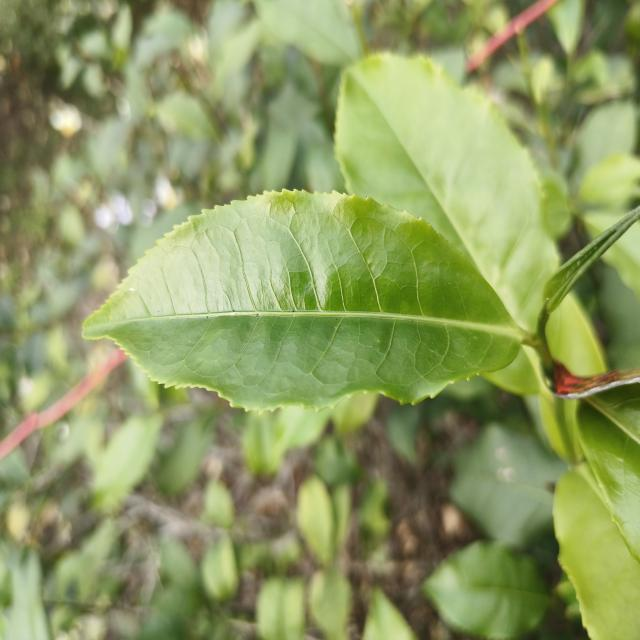Leaf: (83, 191, 525, 410), (335, 54, 559, 329), (553, 466, 640, 640), (450, 423, 567, 547), (423, 541, 549, 640), (578, 389, 640, 561), (543, 206, 640, 314), (254, 0, 361, 66), (94, 414, 162, 510), (576, 101, 636, 181), (297, 476, 335, 565), (579, 154, 640, 208), (154, 91, 217, 140), (257, 578, 306, 640), (363, 589, 415, 640), (201, 534, 238, 600)
